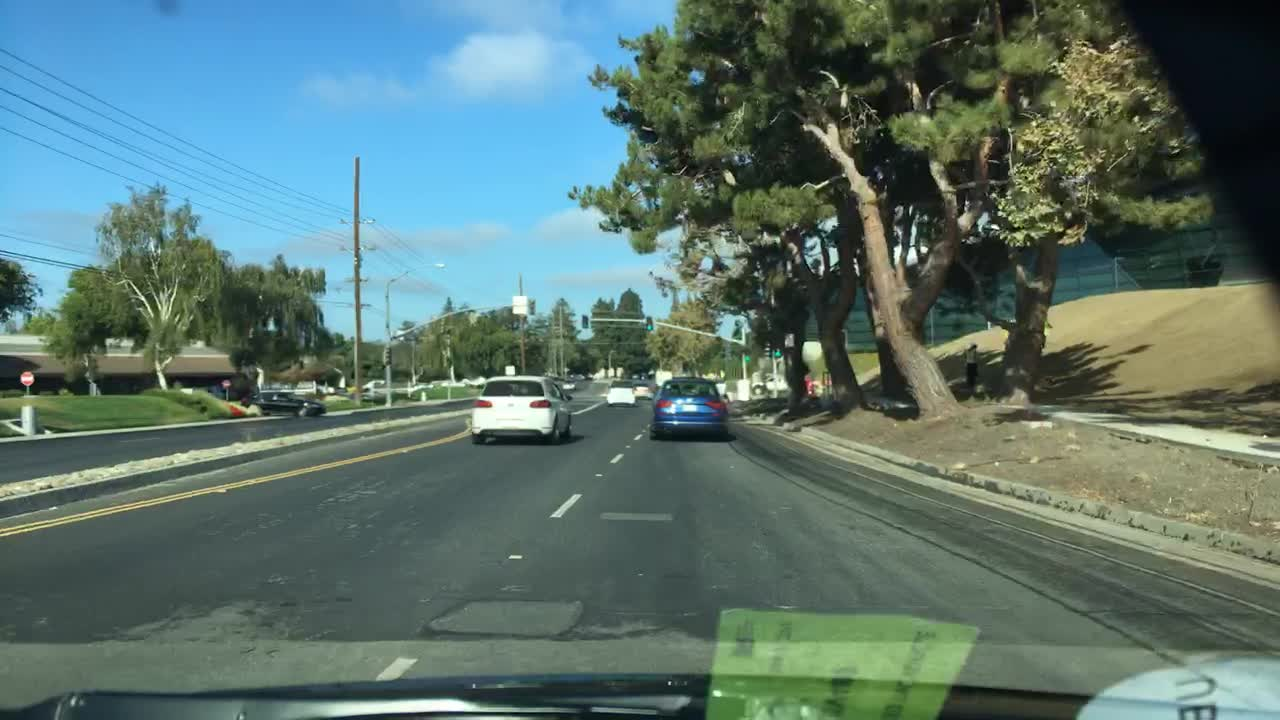car: (470, 374, 574, 443), (649, 374, 731, 441), (241, 390, 328, 420), (751, 374, 791, 397), (605, 378, 636, 407), (632, 382, 655, 401), (361, 378, 389, 392), (316, 381, 337, 397), (561, 379, 578, 393), (806, 375, 816, 397)
person: (963, 342, 980, 389)
traffic light: (762, 339, 774, 359), (580, 312, 591, 332), (382, 345, 392, 365), (772, 346, 785, 359), (644, 316, 655, 331), (741, 347, 751, 362)
traffic sign: (511, 295, 530, 315), (20, 370, 35, 387), (784, 331, 795, 347), (222, 378, 234, 390), (503, 365, 516, 375)
truck: (652, 368, 674, 386)
